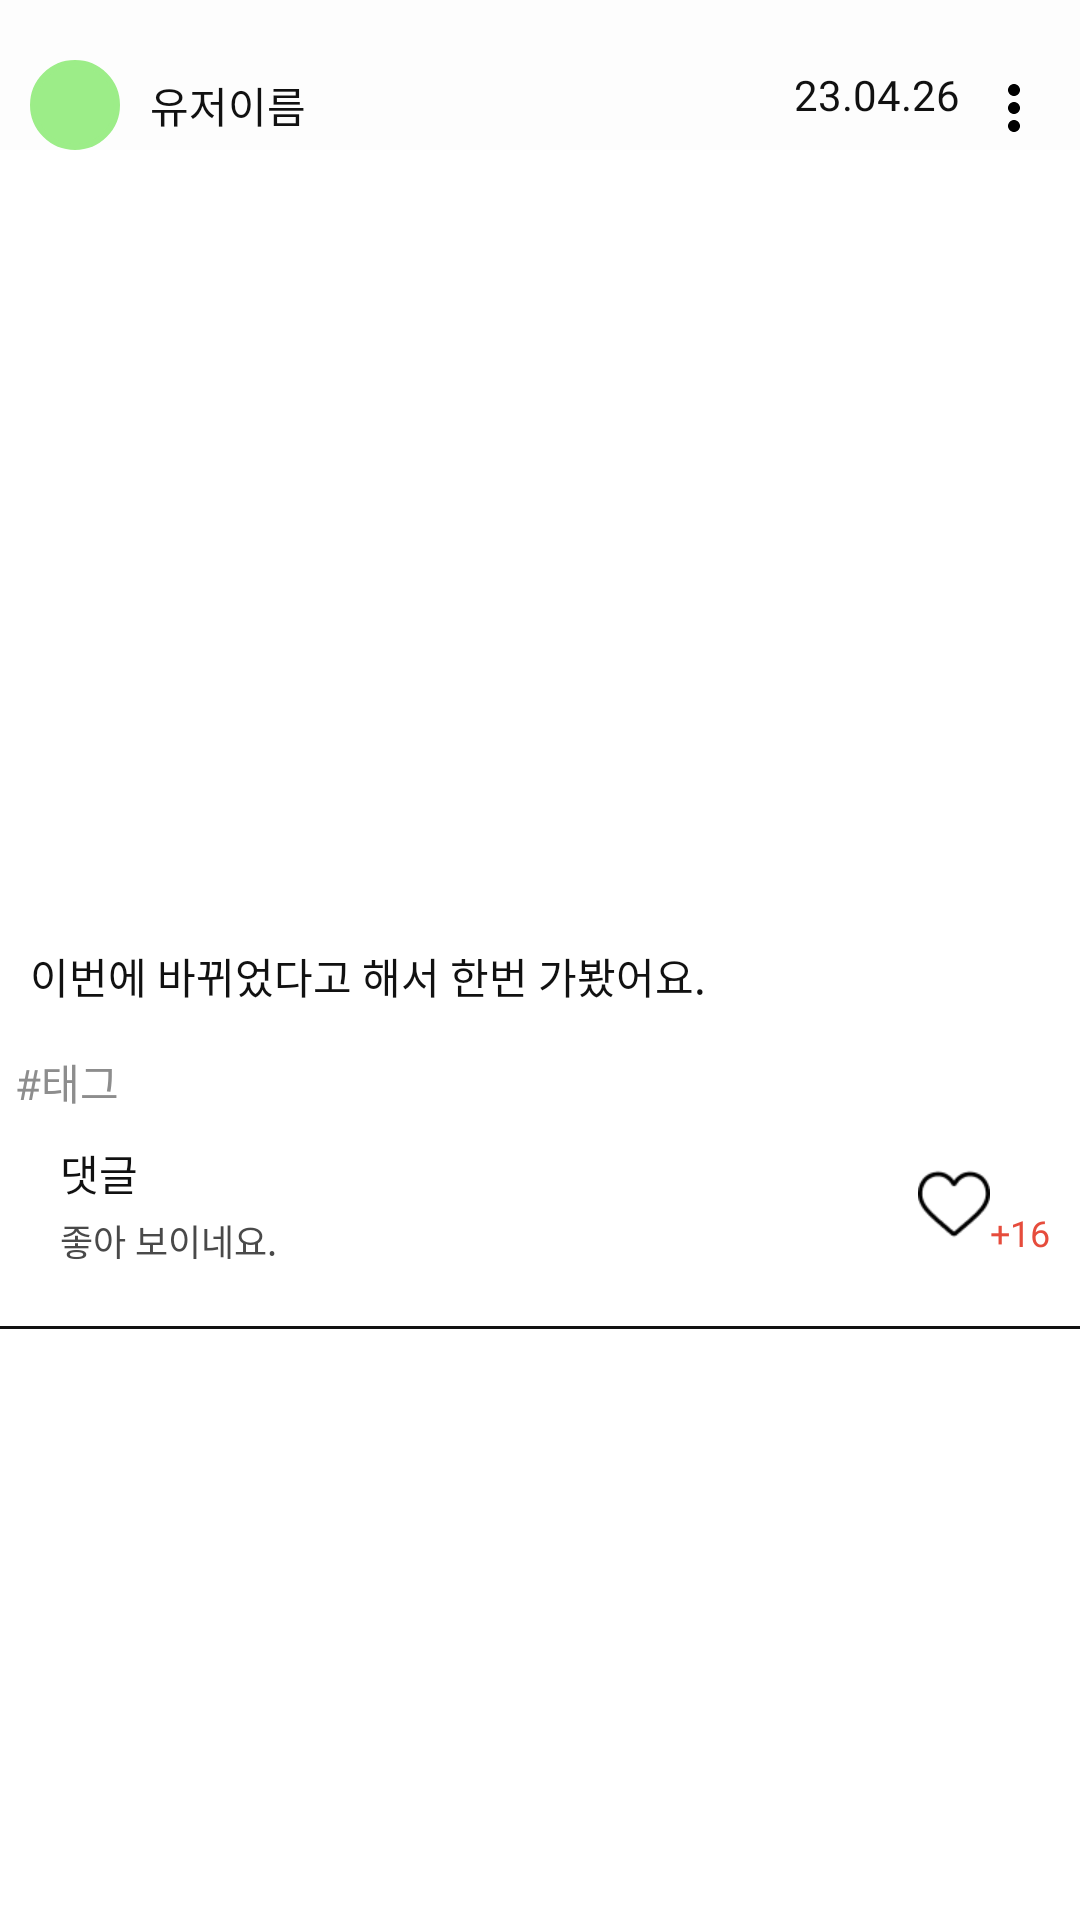

Locate icon controls on the screen. Image size 1080×1920, boxes as BBox(x1, y1, x2, y2).
empty heart: BBox(918, 1171, 990, 1237)
more vert: BBox(1008, 84, 1020, 132)
